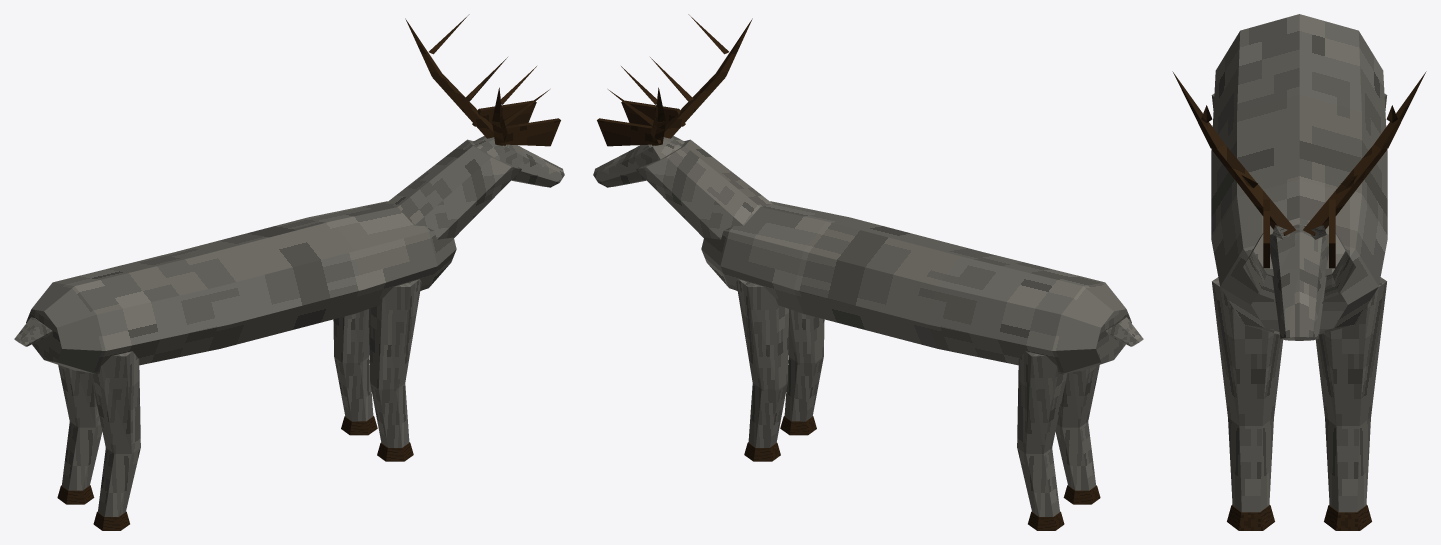
File: reno.glb
The picture shows the model from 3 angles, left to right: view 1: azimuth 30°, elevation 25°; view 2: azimuth 150°, elevation 25°; view 3: azimuth 270°, elevation 25°; orthographic projection. The views are drawn at different scales.
Visible parts, largest first — view 1: cuerpo, cuello, pata_delantera_der, pata_trasera_der, astas, pata_trasera_izq, pata_delantera_izq, cabeza, cola; view 2: cuerpo, cuello, pata_delantera_izq, pata_trasera_izq, astas, pata_trasera_der, pata_delantera_der, cabeza, cola; view 3: cuerpo, pata_delantera_izq, pata_delantera_der, astas, cabeza, cuello, pezuna_delantera_izq, pezuna_delantera_der.
Boxes of the visible parts, x1,y1,x2,y2 form: cuerpo: (26,201,456,373); cuello: (385,139,521,239); pata_delantera_der: (369,279,421,447); pata_trasera_der: (90,351,140,516); astas: (405,14,560,146); pata_trasera_izq: (58,365,102,490); pata_delantera_izq: (333,309,373,421); cabeza: (473,136,564,187); cola: (14,317,51,346); cuerpo: (701,201,1131,373); cuello: (636,139,772,239); pata_delantera_izq: (736,279,788,447); pata_trasera_izq: (1017,351,1067,516); astas: (597,14,752,146); pata_trasera_der: (1055,365,1099,490); pata_delantera_der: (784,309,824,421); cabeza: (593,136,684,187); cola: (1106,317,1143,346); cuerpo: (1211,14,1387,334); pata_delantera_izq: (1315,277,1386,512); pata_delantera_der: (1212,277,1283,512); astas: (1172,71,1426,268); cabeza: (1270,223,1328,340); cuello: (1243,218,1355,299); pezuna_delantera_izq: (1324,504,1371,530); pezuna_delantera_der: (1227,504,1274,530).
Bounding box in the file's own units: 2 × 1.3 × 0.6.
1 material, 1 textured.
